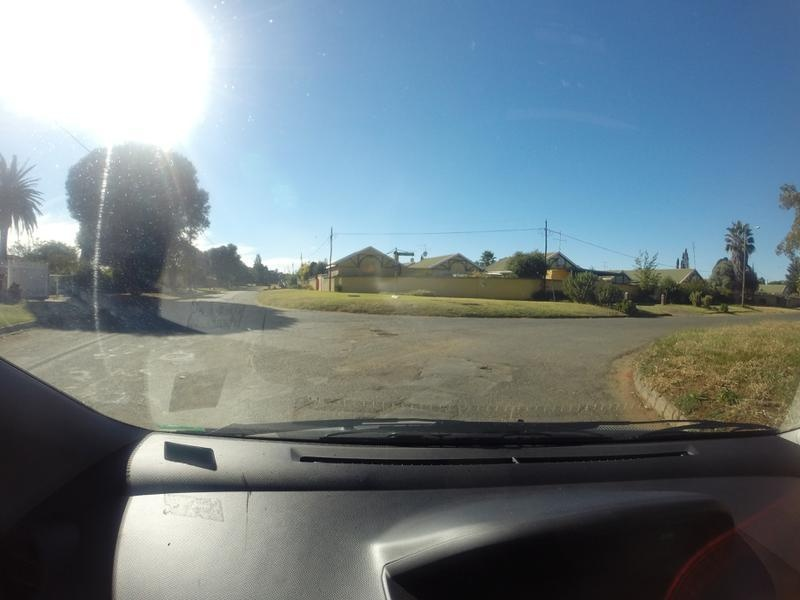pothole: (464, 357, 493, 376), (364, 326, 400, 339), (317, 388, 344, 405)
